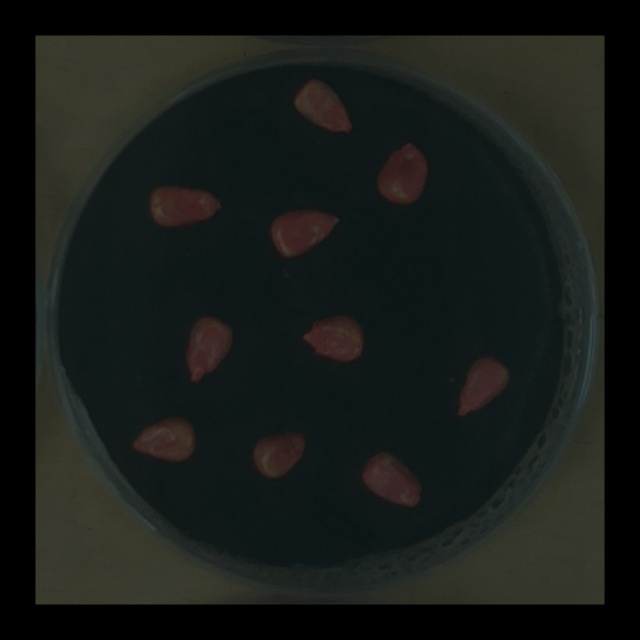Zea mays: (263, 201, 346, 265), (448, 349, 516, 423), (356, 444, 429, 512), (178, 309, 239, 387), (288, 71, 359, 138), (369, 135, 433, 209), (143, 178, 229, 233), (297, 305, 371, 368), (125, 409, 201, 467), (245, 422, 312, 483)
